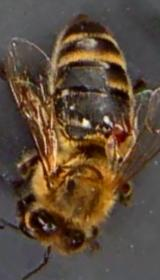varroa_mite: (104, 112, 132, 149)
